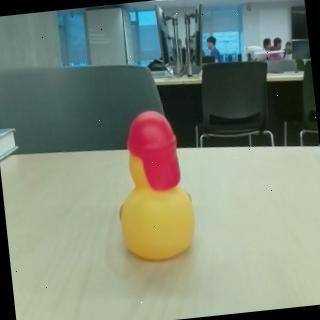duck_specialty: (107, 105, 201, 265)
